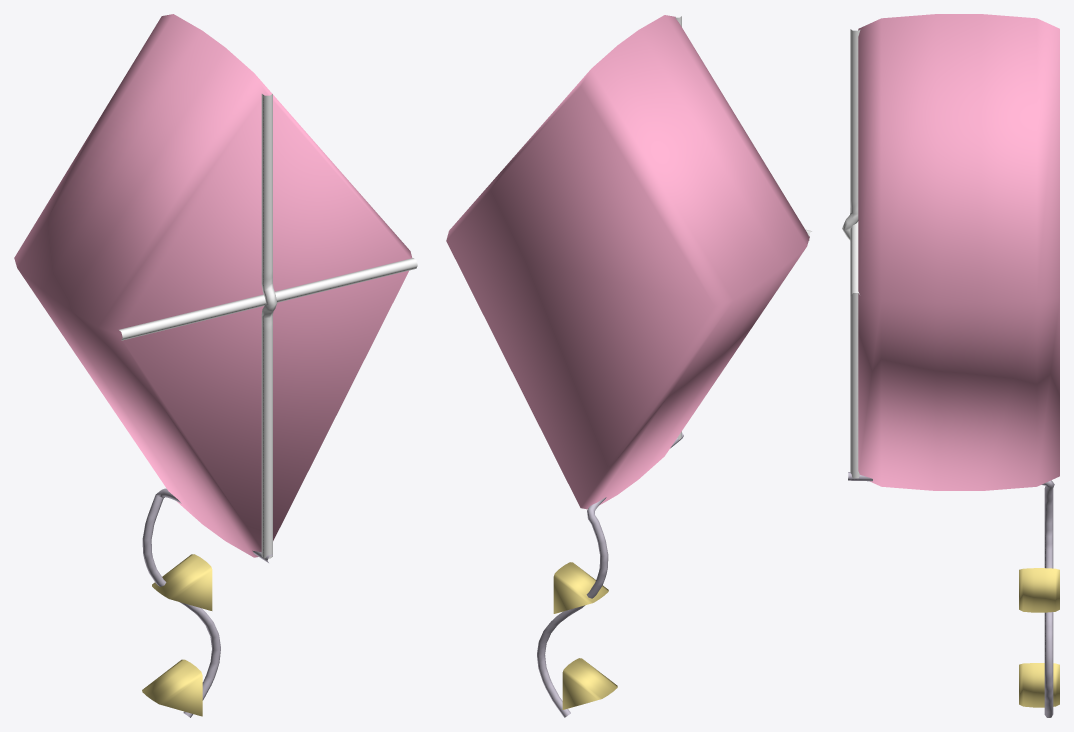
The model's file is decor_5_classic.glb.
3 renders of one model, left to right at view 1: azimuth 30°, elevation 25°; view 2: azimuth 150°, elevation 25°; view 3: azimuth 270°, elevation 25°, orthographic. The views are drawn at different scales.
Parts seen in each view (by area): view 1: decor_5_classic; view 2: decor_5_classic; view 3: decor_5_classic.
Boxes of the visible parts, x1,y1,x2,y2 form: decor_5_classic: [14, 14, 417, 717]; decor_5_classic: [446, 15, 811, 717]; decor_5_classic: [842, 14, 1059, 717].
Bounding box in the file's own units: 6.51 × 13.94 × 3.97.
